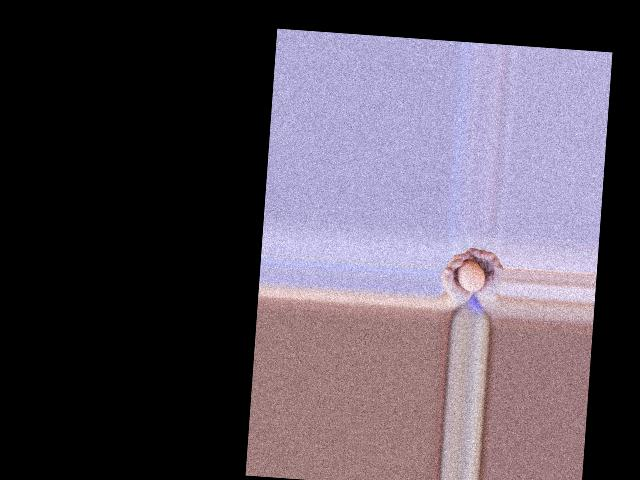egg: (456, 260, 487, 292)
